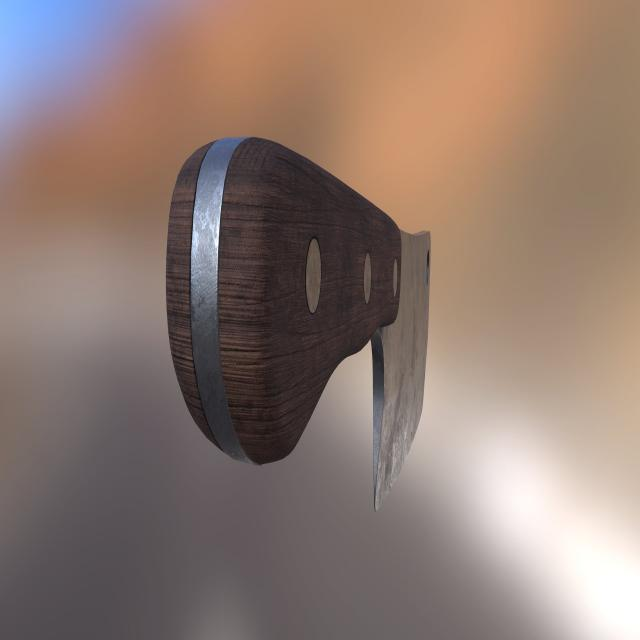cleaver: (164, 136, 429, 512)
